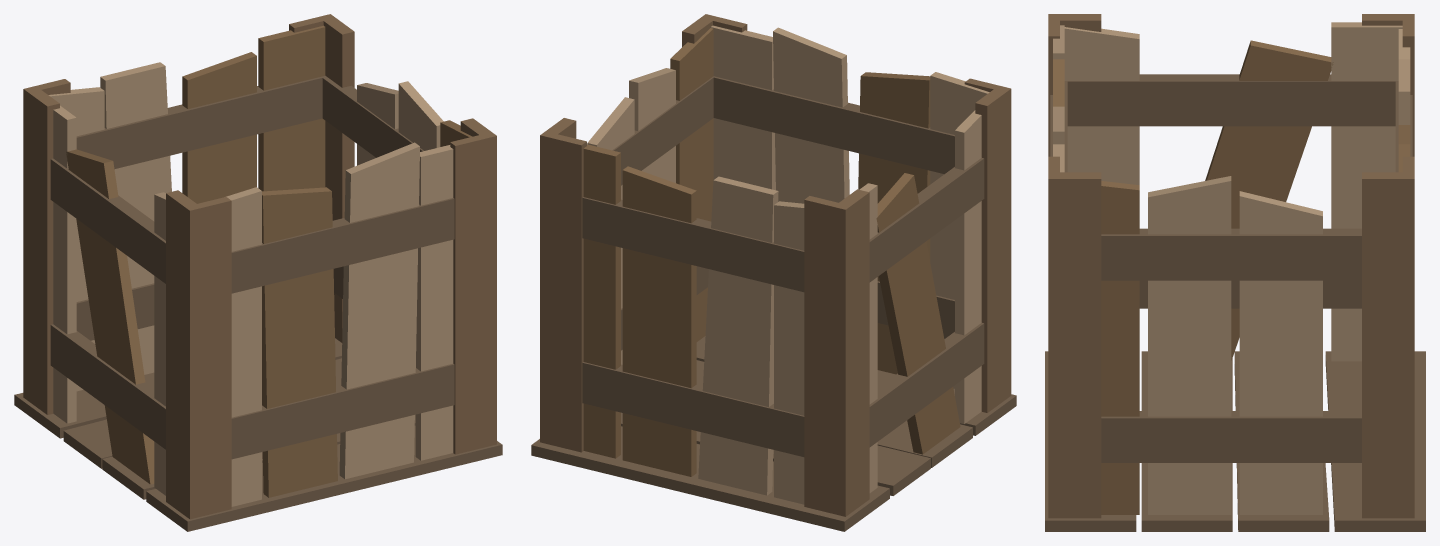
The picture shows the model from 3 angles, left to right: view 1: azimuth 30°, elevation 25°; view 2: azimuth 150°, elevation 25°; view 3: azimuth 270°, elevation 25°; orthographic projection. The views are drawn at different scales.
Parts seen in each view (by area): view 1: Box_1; view 2: Box_1; view 3: Box_1.
Boxes of the visible parts, left/top/right/bottom form: Box_1: left=14, top=14, right=502, bottom=531; Box_1: left=531, top=14, right=1016, bottom=531; Box_1: left=1045, top=14, right=1425, bottom=531.
Size of the model in its own units: 59.64 by 58.88 by 56.79.
Materials: 1 (1 with a texture image).
